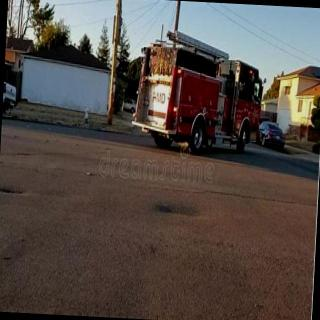Fire_truck: (130, 23, 268, 158)
